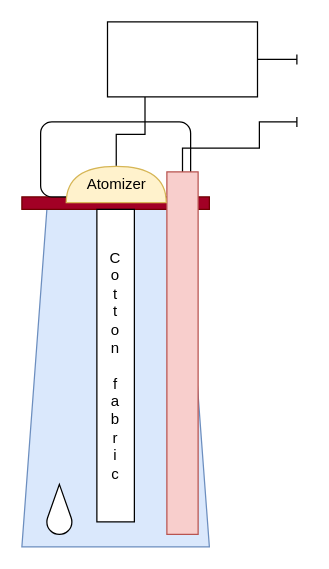
Image size: 329x569. Some labels were removed from this diagram. Here are the shapes that lost their labels. From the top down, the centre of each, then its label:
(x=182, y=59): Grove Atomization Module
(x=182, y=352): W a t e r l e v e l s e n s o r
